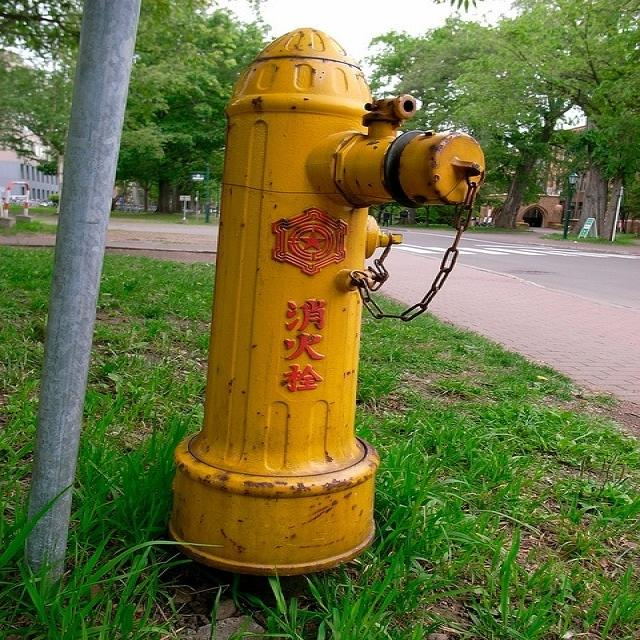fire_hydrant: (86, 60, 579, 604)
